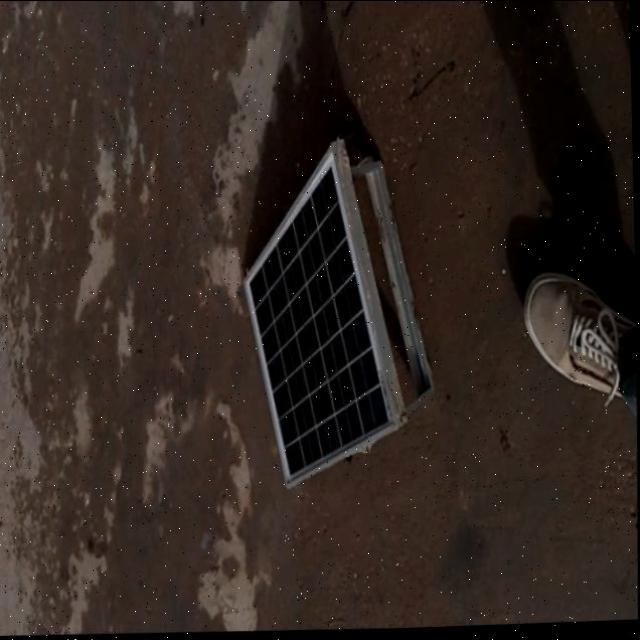Normal Solar Panel: (242, 140, 412, 494)
